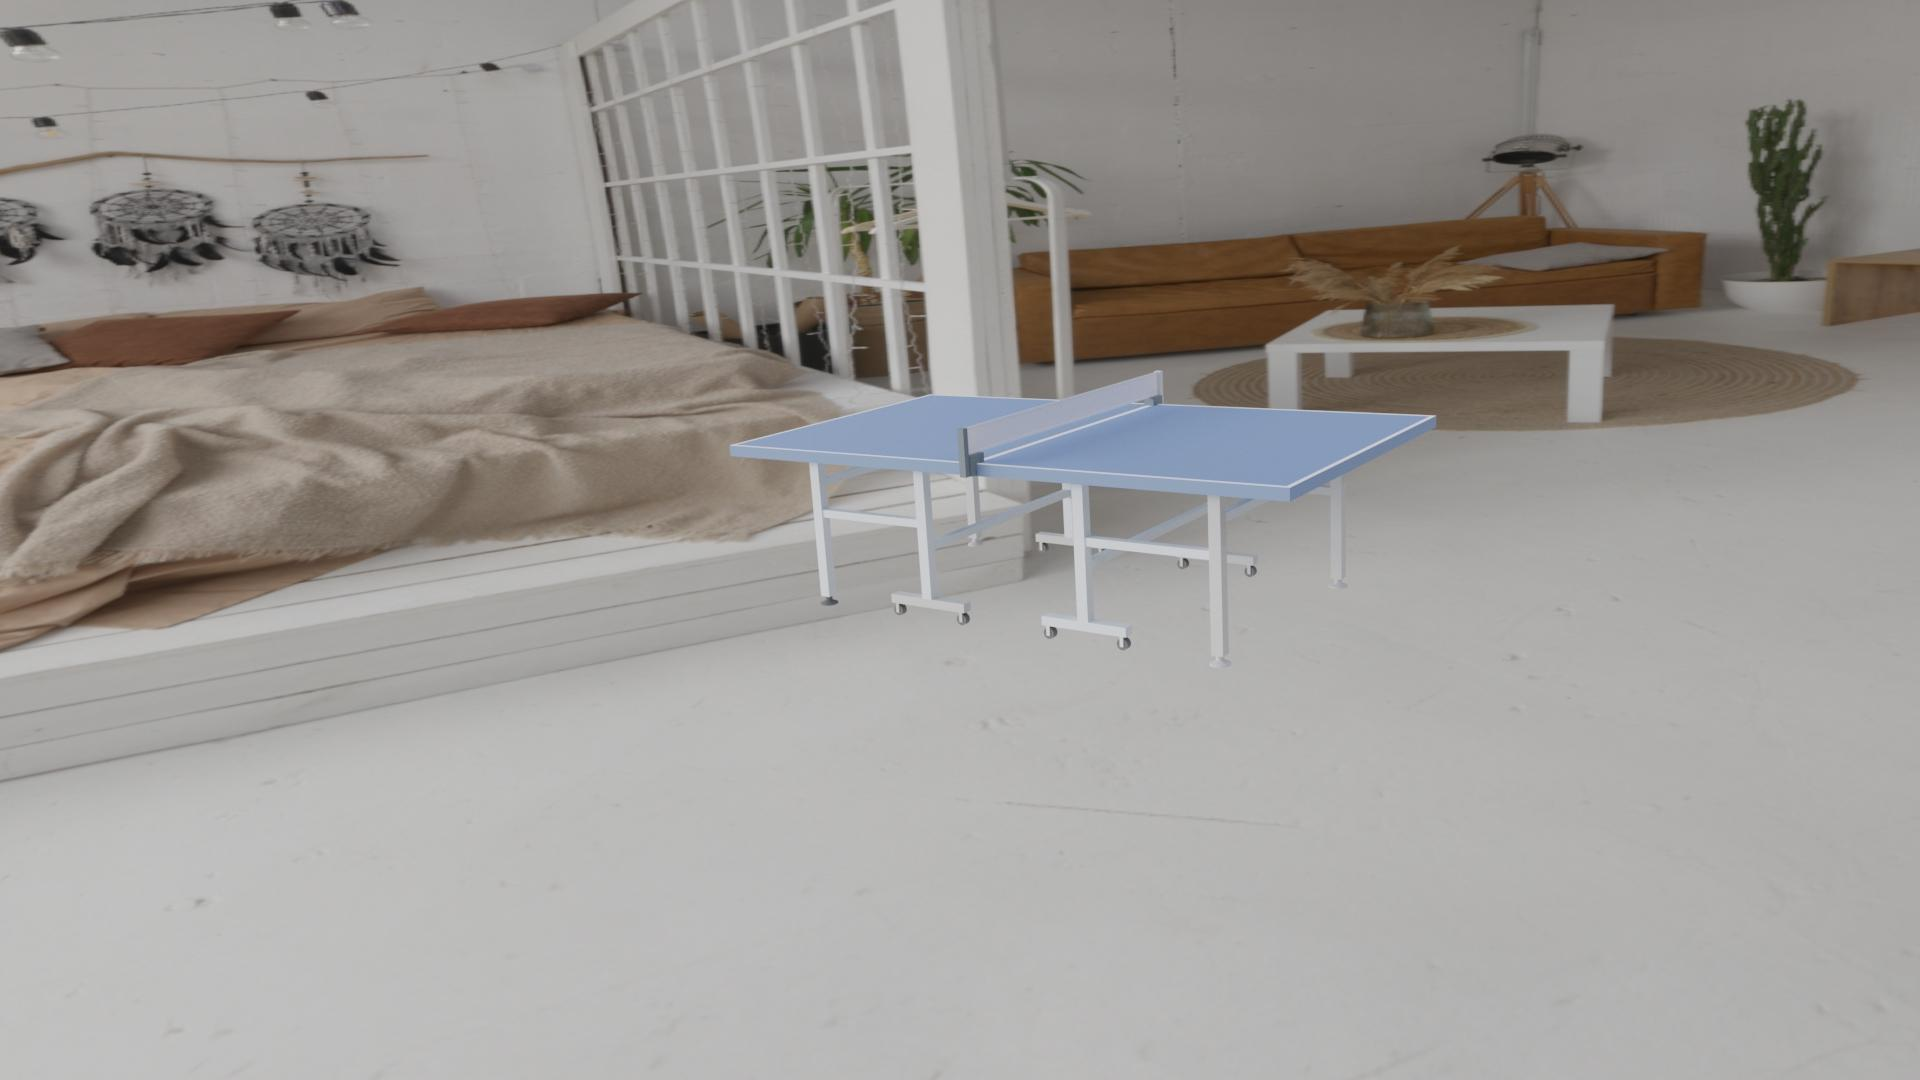table: (736, 396, 1429, 487)
